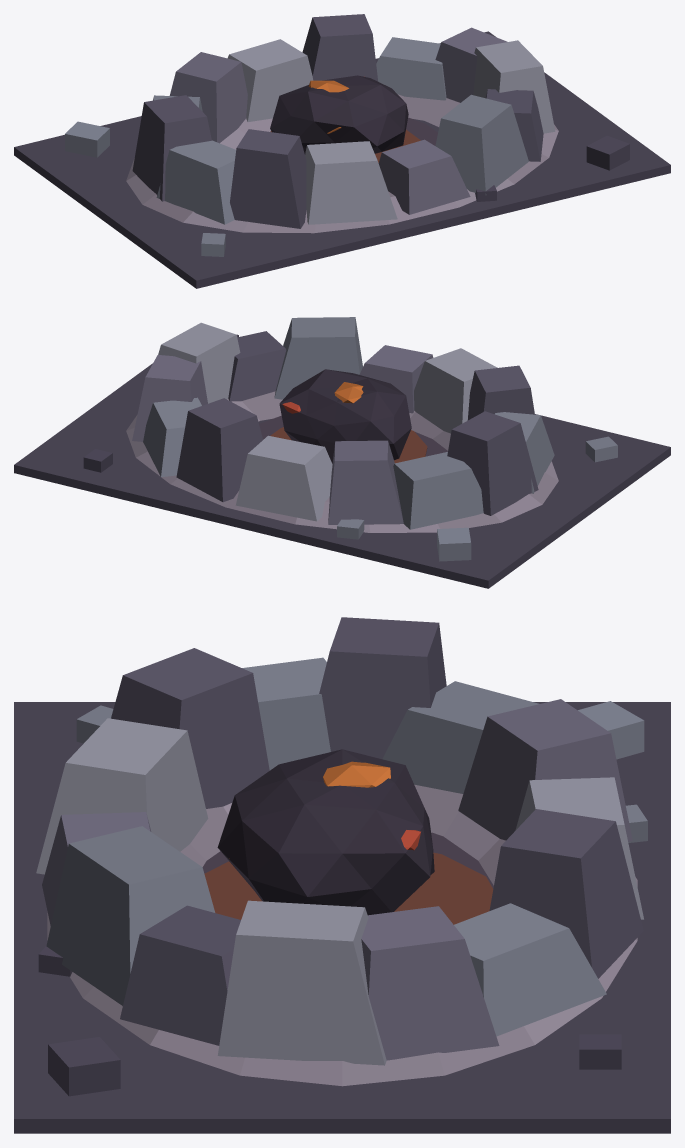
Rendered from Decor_Observatory_Crater.fbx.
3 views of the same model, one above another, from view 1: azimuth 30°, elevation 25°; view 2: azimuth 150°, elevation 25°; view 3: azimuth 270°, elevation 25° (orthographic). The views are drawn at different scales.
Visible parts, largest first — view 1: Crater_Body; view 2: Crater_Body; view 3: Crater_Body.
Part boxes in pixels (bbox=[...]): Crater_Body: bbox=[14, 14, 670, 288]; Crater_Body: bbox=[14, 317, 670, 588]; Crater_Body: bbox=[14, 617, 670, 1133].
Size of the model in its own units: 22.2 by 3.77 by 14.79.
